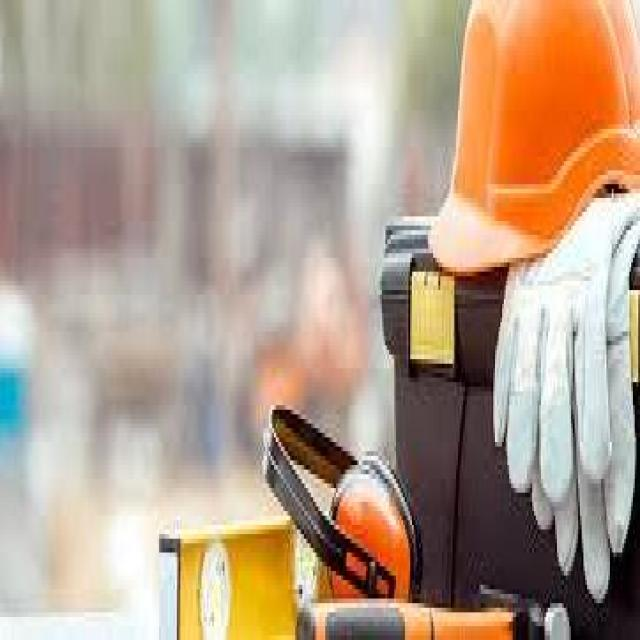Safety-Helmet: (424, 0, 640, 290)
